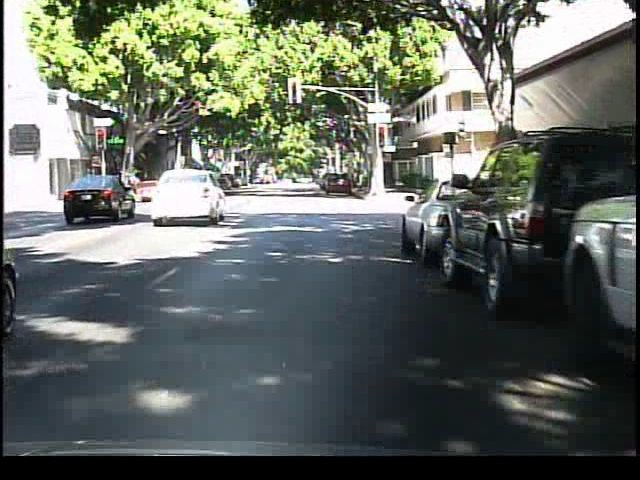person: (126, 161, 149, 199)
